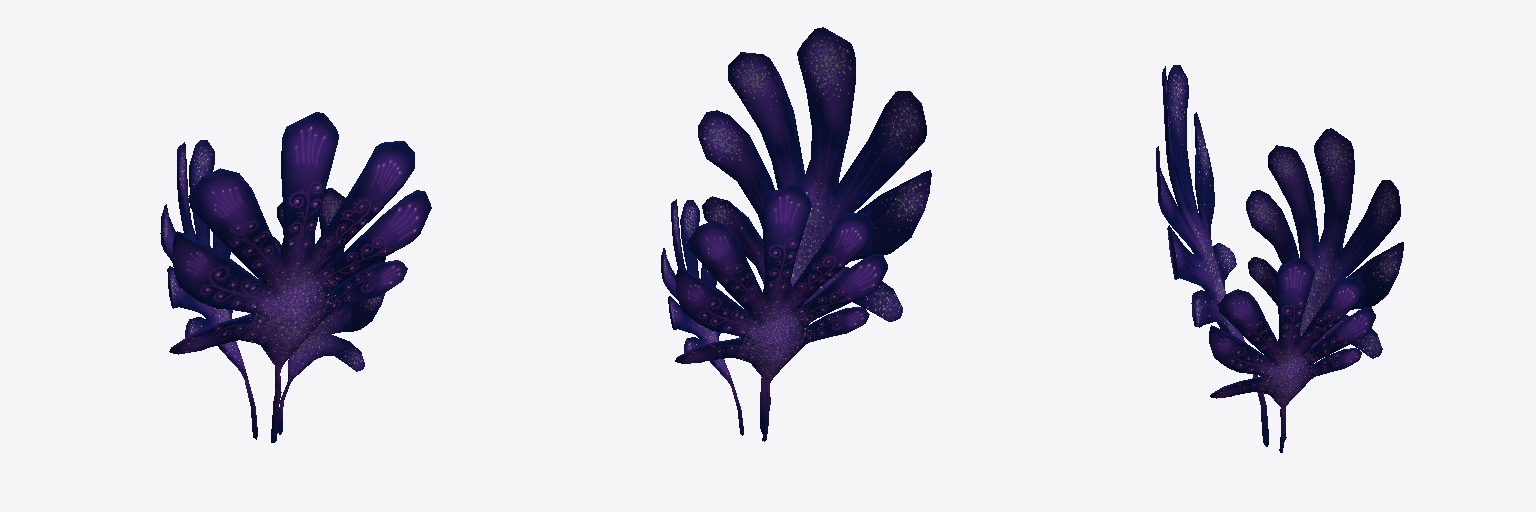
The picture shows the model from 3 angles: view 1: azimuth 30°, elevation 25°; view 2: azimuth 150°, elevation 25°; view 3: azimuth 270°, elevation 25°; orthographic projection.
Parts seen in each view (by area): view 1: Plant1_wBox, Plant1_wBox.001, Plant1_wBox.002; view 2: Plant1_wBox, Plant1_wBox.001, Plant1_wBox.002; view 3: Plant1_wBox.001, Plant1_wBox.002, Plant1_wBox.
Part boxes in pixels (x1,y1,x2,y2): Plant1_wBox: (169,112,431,442); Plant1_wBox.001: (160,140,257,439); Plant1_wBox.002: (273,188,385,434); Plant1_wBox: (698,27,931,433); Plant1_wBox.001: (675,184,887,441); Plant1_wBox.002: (661,199,743,435); Plant1_wBox.001: (1246,128,1403,441); Plant1_wBox.002: (1209,258,1375,452); Plant1_wBox: (1156,65,1268,446).
Bounding box in the file's own units: 1.83 × 2.64 × 1.6.
1 materials, 1 textured.